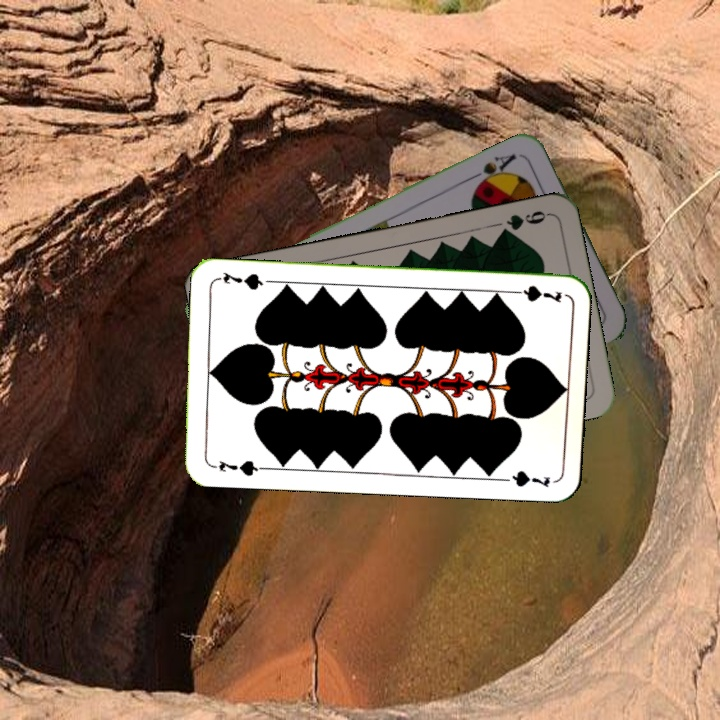G7: (505, 281, 565, 305), (207, 456, 267, 479)
G9: (495, 206, 552, 239)
SA: (469, 149, 520, 190)
